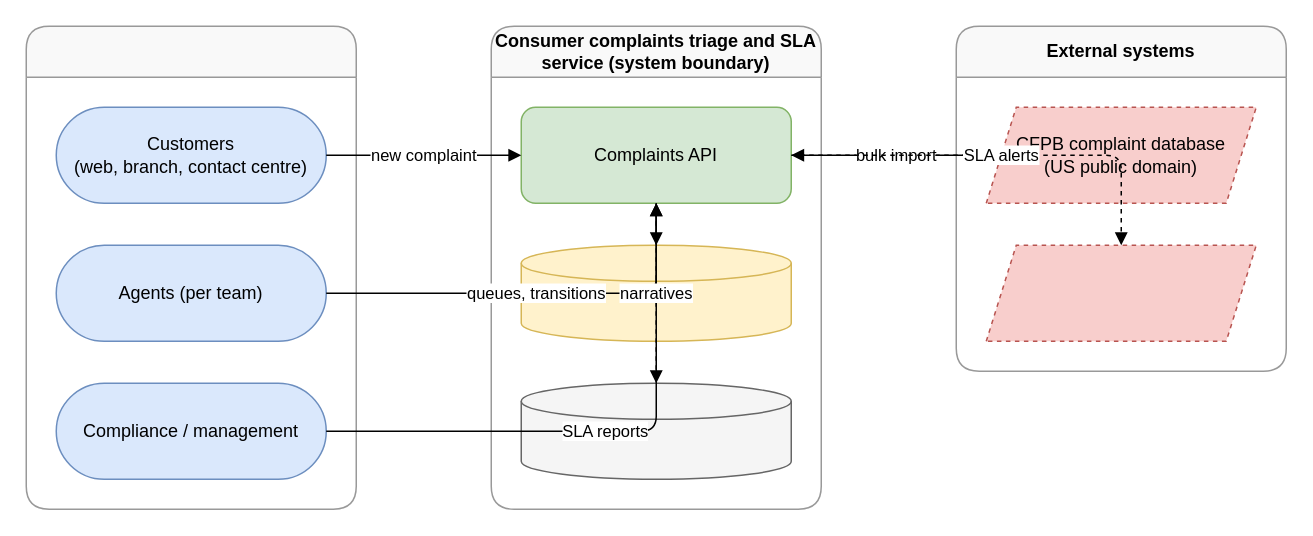
The diagram is 1313 pixels wide and 536 high, and some of its shapes have lost their labels. Each missing label, with the box of its shape:
Email / SMS provider (stretch): (985, 244, 1256, 341)
MongoDB (optional): (520, 382, 791, 479)
PostgreSQL: (520, 244, 791, 341)
Users and clients: (25, 25, 356, 509)
